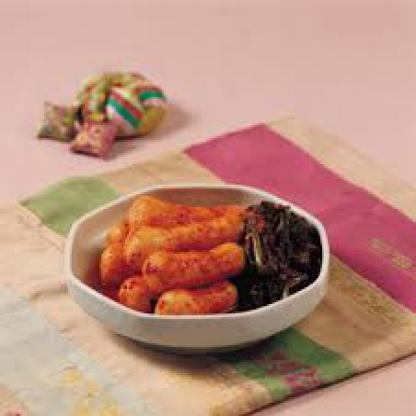chonggak Kimchi: (96, 196, 324, 330)
